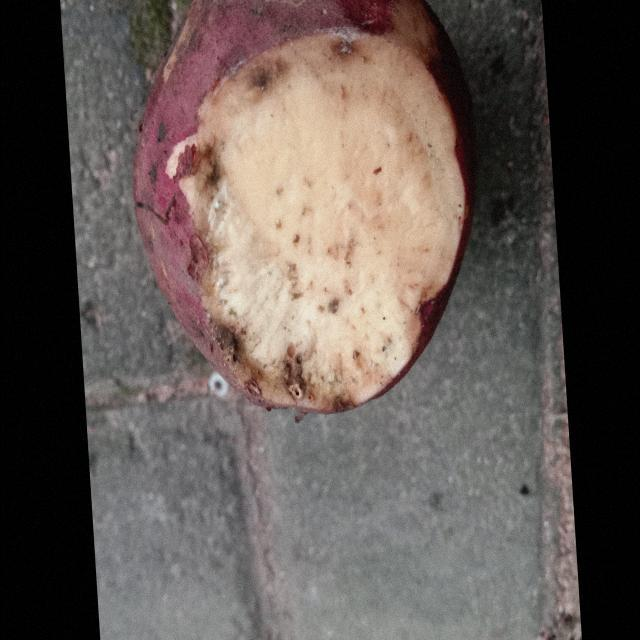Sick Sweet Potato_Tuber Rot: (180, 33, 464, 412)
